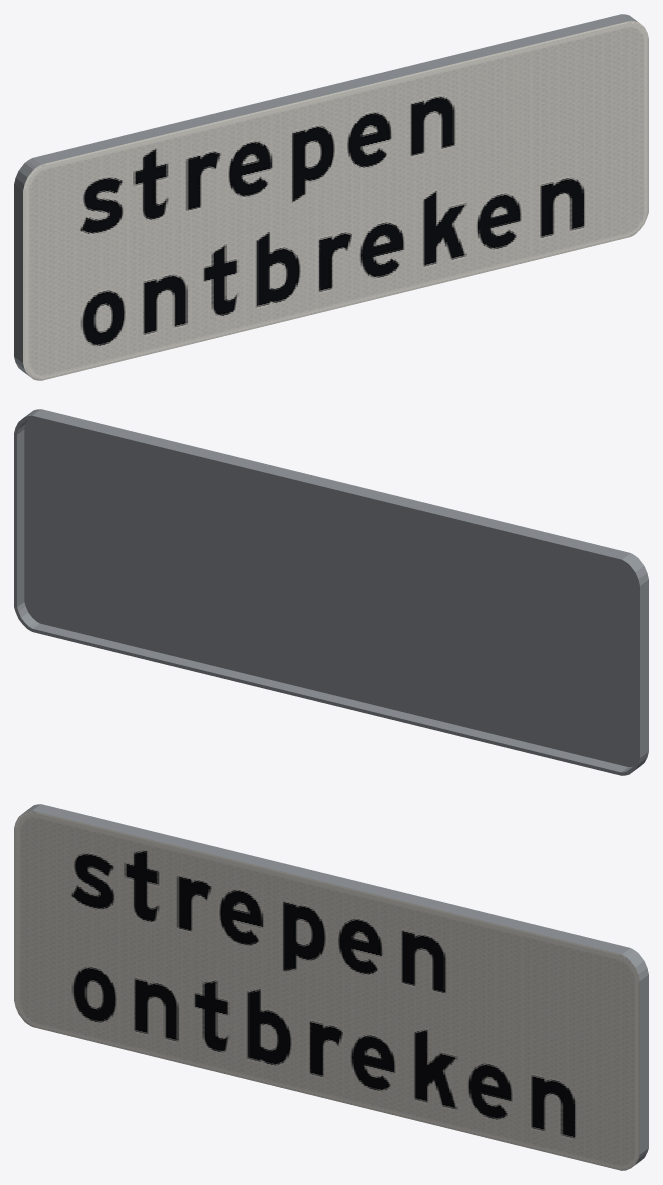
3 views of the same model, one above another, from view 1: azimuth 30°, elevation 25°; view 2: azimuth 150°, elevation 25°; view 3: azimuth 330°, elevation 25° (orthographic).
Parts seen in each view (by area): view 1: cat_d7465f984fb77355; view 2: cat_d7465f984fb77355; view 3: cat_d7465f984fb77355.
Part boxes in pixels (box(x1,y1,x2,y2)): cat_d7465f984fb77355: box(14, 14, 648, 380); cat_d7465f984fb77355: box(14, 409, 648, 775); cat_d7465f984fb77355: box(14, 804, 648, 1170).
Bounding box in the file's own units: 0.6 × 0.015 × 0.1981.
Materials: 2 (1 with a texture image).
